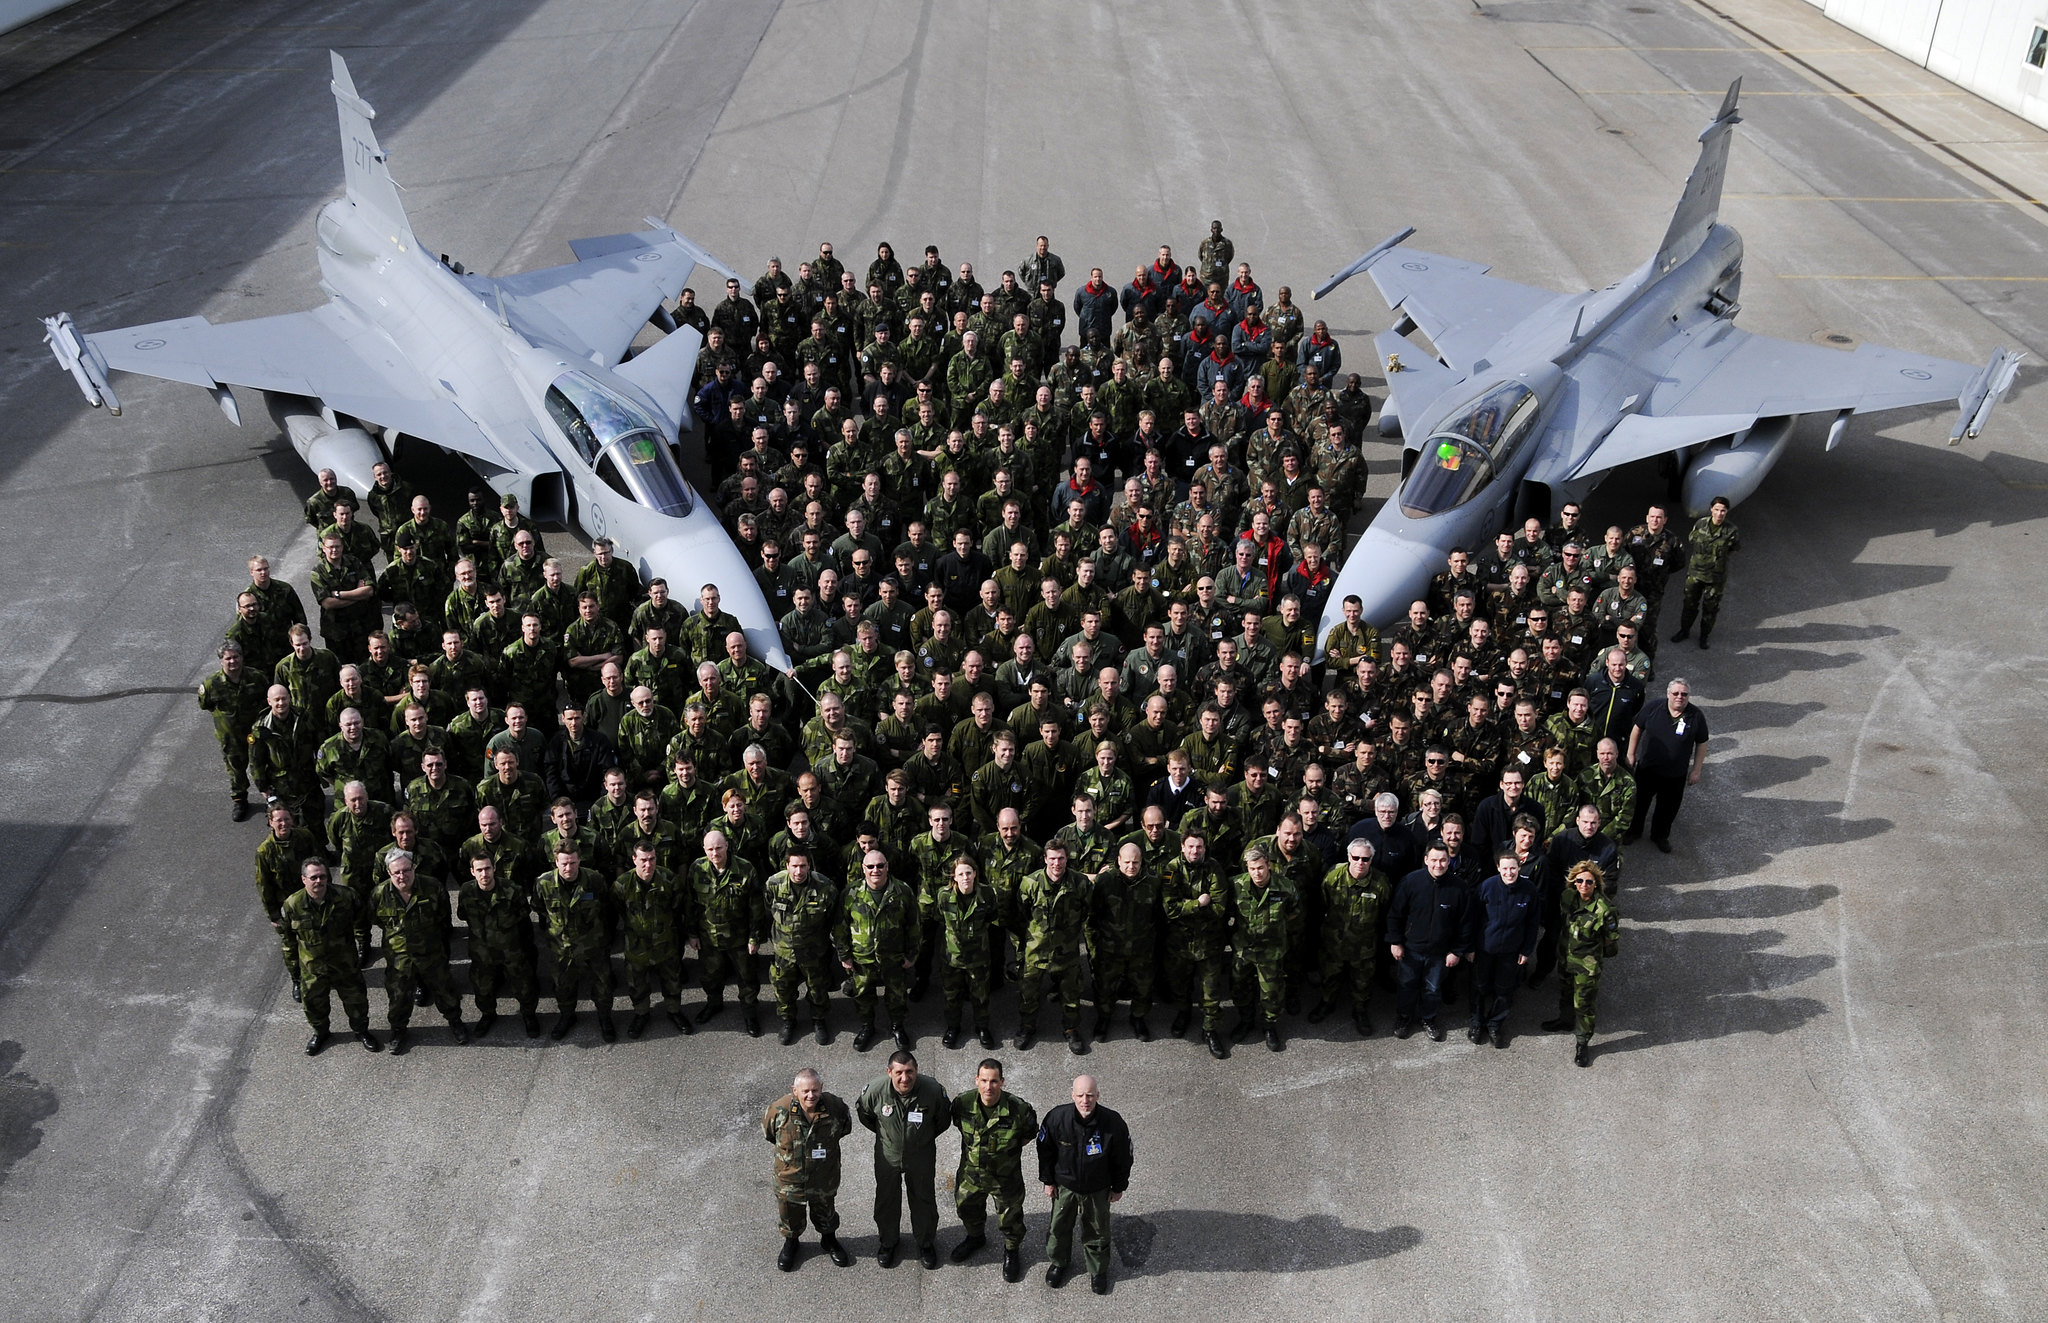JAS39: (34, 48, 821, 706), (1309, 75, 2029, 663)
